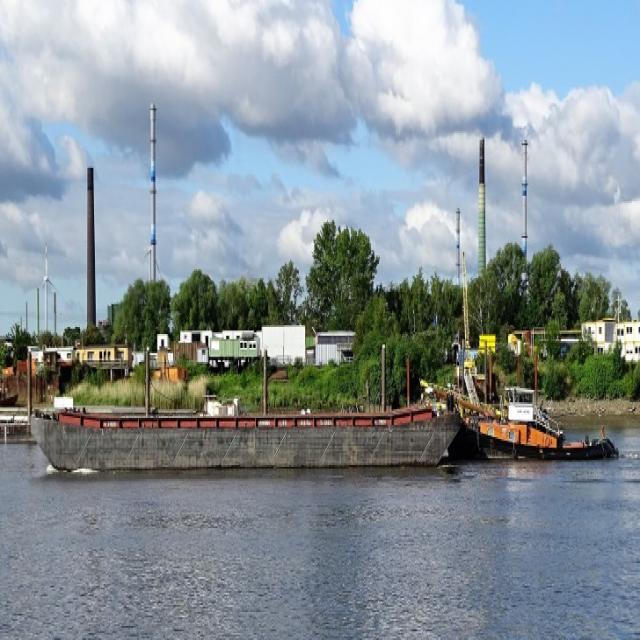tugboat: (461, 362, 621, 472)
